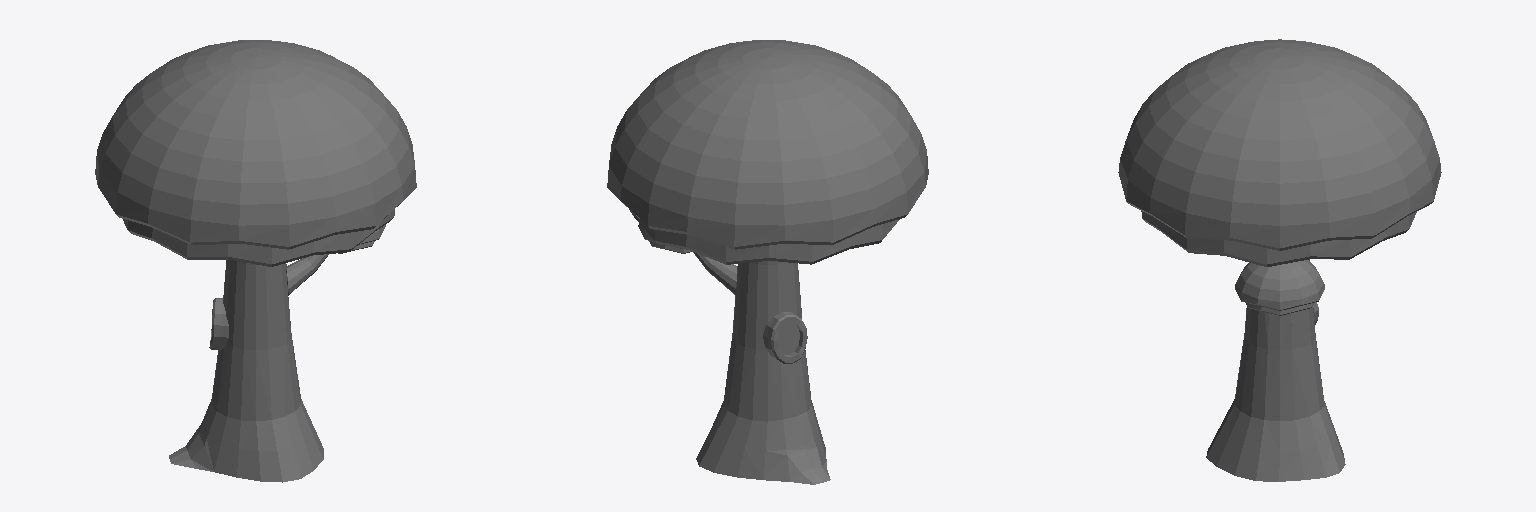
File: Wood.obj
3 renders of one model, left to right at view 1: azimuth 30°, elevation 25°; view 2: azimuth 150°, elevation 25°; view 3: azimuth 270°, elevation 25°, orthographic.
Visible parts, largest first — view 1: Wood Top_Leaf01, Trunk Wood, Wood Top_Leaf02; view 2: Wood Top_Leaf01, Trunk Wood, Wood Top_Leaf02; view 3: Wood Top_Leaf01, Trunk Wood, Wood Top_Leaf02, Wood Side_Leaf01.
Boxes of the visible parts, <box> form: Wood Top_Leaf01: <box>95,40,416,249</box>; Trunk Wood: <box>169,254,328,482</box>; Wood Top_Leaf02: <box>123,209,394,266</box>; Wood Top_Leaf01: <box>607,40,928,249</box>; Trunk Wood: <box>693,252,830,484</box>; Wood Top_Leaf02: <box>629,209,899,264</box>; Wood Top_Leaf01: <box>1118,39,1441,250</box>; Trunk Wood: <box>1206,259,1345,481</box>; Wood Top_Leaf02: <box>1141,211,1416,266</box>; Wood Side_Leaf01: <box>1235,260,1324,310</box>.
Size of the model in its own units: 10.1 by 13.69 by 10.09.